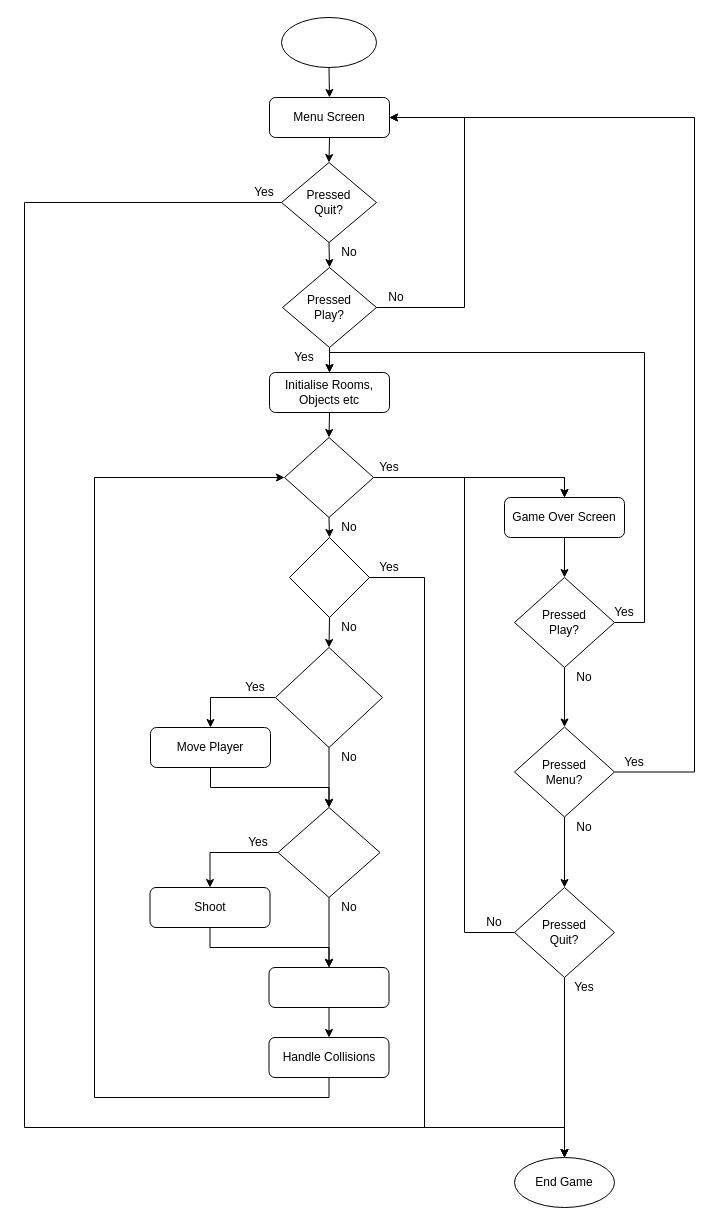
Some shapes in this 720 by 1225 pixel diagram are drawn without their labels. Here are the shapes that lost their labels. From the top down, the box of each, then its label:
(280, 16, 376, 68): Start Game
(284, 436, 374, 518): Game Won?
(288, 536, 370, 618): Quit?
(274, 646, 382, 748): Player Movement Input?
(277, 806, 380, 898): Player Shoot Input?
(268, 966, 389, 1008): Update Objects in Rooms
